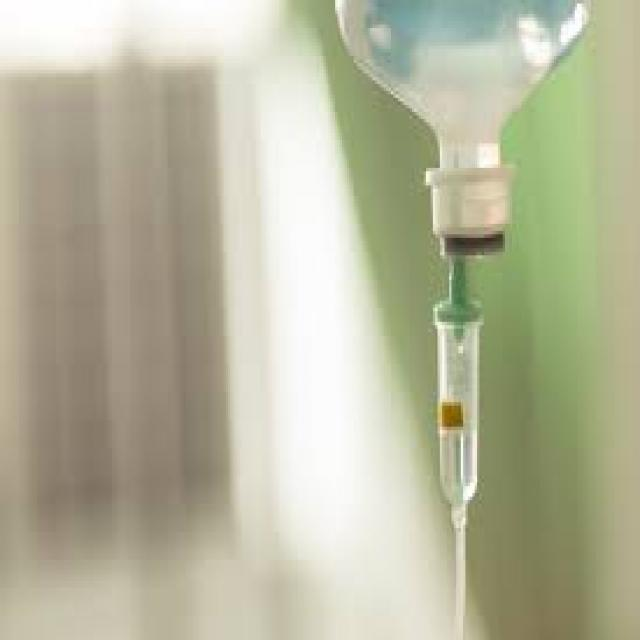iv_fluids: (337, 50, 559, 578)
